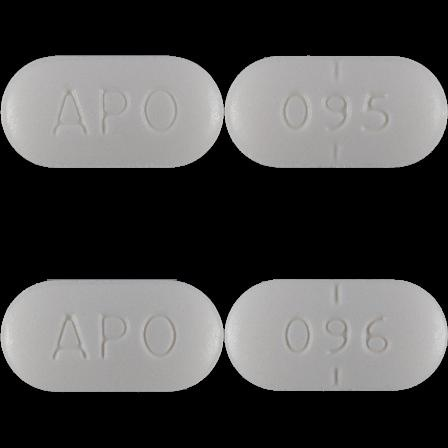68645-464: (0, 0, 224, 224)
